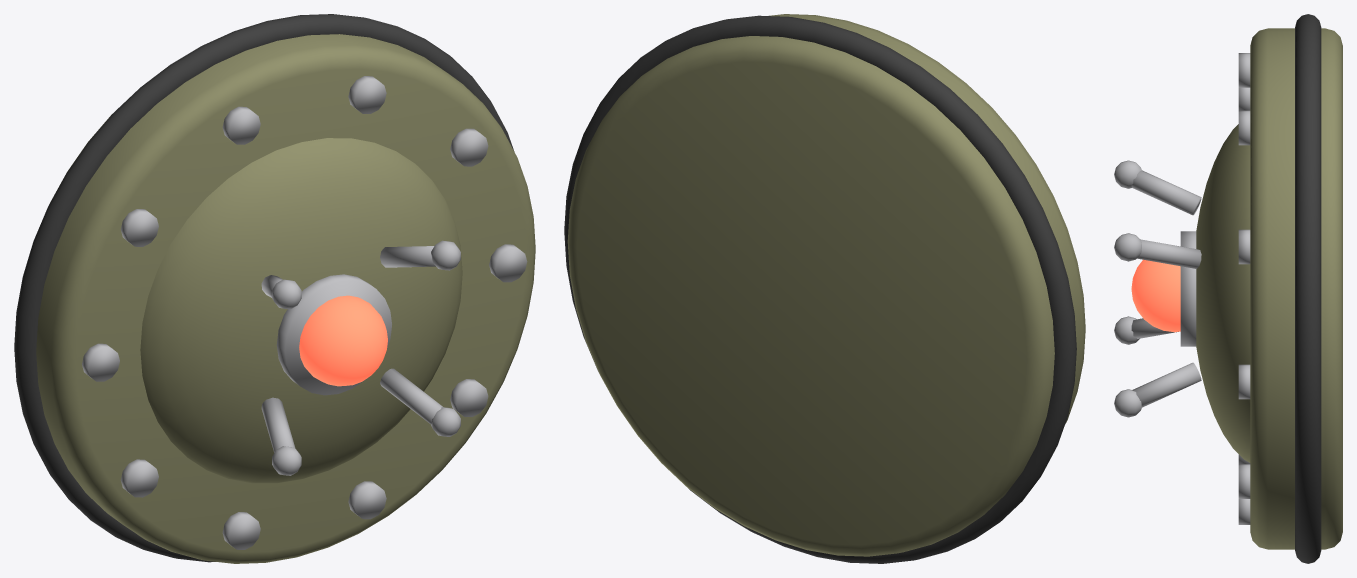
File: mine.glb
3 views of the same model, side by side, from view 1: azimuth 30°, elevation 25°; view 2: azimuth 150°, elevation 25°; view 3: azimuth 270°, elevation 25° (orthographic). The views are drawn at different scales.
Parts seen in each view (by area): view 1: Disc, Dome, Torus, Sphere.004, Cylinder.014, Cylinder.013, Cylinder, Cylinder.006, Cylinder.008, Cylinder.001, Cylinder.003, Cylinder.005 (+10 smaller); view 2: Disc, Torus; view 3: Disc, Torus, Dome, Sphere.004, Cylinder.014, Cylinder.011, Cylinder.013, Cylinder.010, Sphere, Sphere.003, Sphere.001, Sphere.002 (+8 smaller).
Boxes of the visible parts, x1=… form: Disc: x1=36, y1=34, x2=535, y2=563; Dome: x1=140, y1=138, x2=462, y2=483; Torus: x1=14, y1=14, x2=514, y2=562; Sphere.004: x1=299, y1=295, x2=387, y2=386; Cylinder.014: x1=276, y1=274, x2=391, y2=395; Cylinder.013: x1=380, y1=368, x2=443, y2=424; Cylinder: x1=489, y1=244, x2=527, y2=282; Cylinder.006: x1=120, y1=459, x2=158, y2=497; Cylinder.008: x1=348, y1=481, x2=386, y2=519; Cylinder.001: x1=450, y1=128, x2=488, y2=166; Cylinder.003: x1=222, y1=106, x2=260, y2=144; Cylinder.005: x1=82, y1=343, x2=119, y2=381; Disc: x1=567, y1=14, x2=1085, y2=556; Torus: x1=564, y1=15, x2=1076, y2=563; Disc: x1=1250, y1=28, x2=1342, y2=549; Torus: x1=1295, y1=14, x2=1321, y2=563; Dome: x1=1196, y1=124, x2=1250, y2=462; Sphere.004: x1=1131, y1=259, x2=1180, y2=332; Cylinder.014: x1=1180, y1=231, x2=1196, y2=346; Cylinder.011: x1=1131, y1=170, x2=1201, y2=215; Cylinder.013: x1=1132, y1=362, x2=1201, y2=407; Cylinder.010: x1=1137, y1=239, x2=1201, y2=268; Sphere: x1=1114, y1=233, x2=1141, y2=261; Sphere.003: x1=1114, y1=389, x2=1141, y2=417; Sphere.001: x1=1114, y1=160, x2=1141, y2=188; Sphere.002: x1=1114, y1=316, x2=1139, y2=344.
Size of the model in its own units: 1.9 by 1.9 by 0.79.
